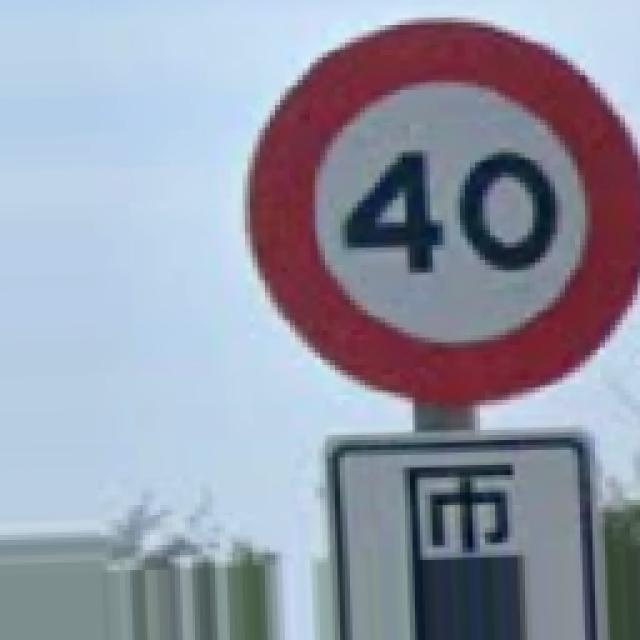Speed Limit -40-: (250, 22, 638, 402)
